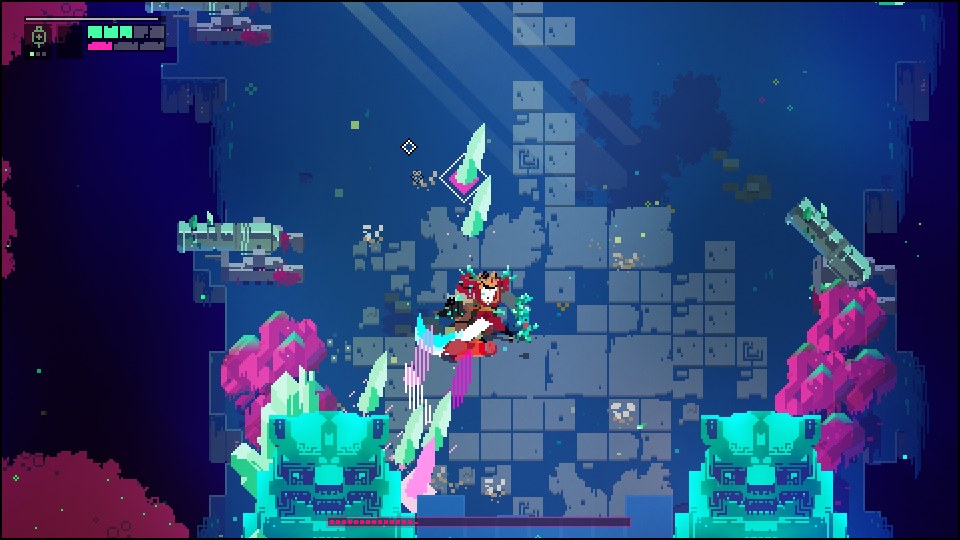hanged_crys: (459, 174, 492, 235), (452, 123, 485, 184), (353, 352, 386, 413), (400, 364, 433, 425), (404, 437, 437, 498), (440, 357, 473, 413)
hanged_man: (442, 263, 534, 340)
player: (440, 338, 498, 360)
